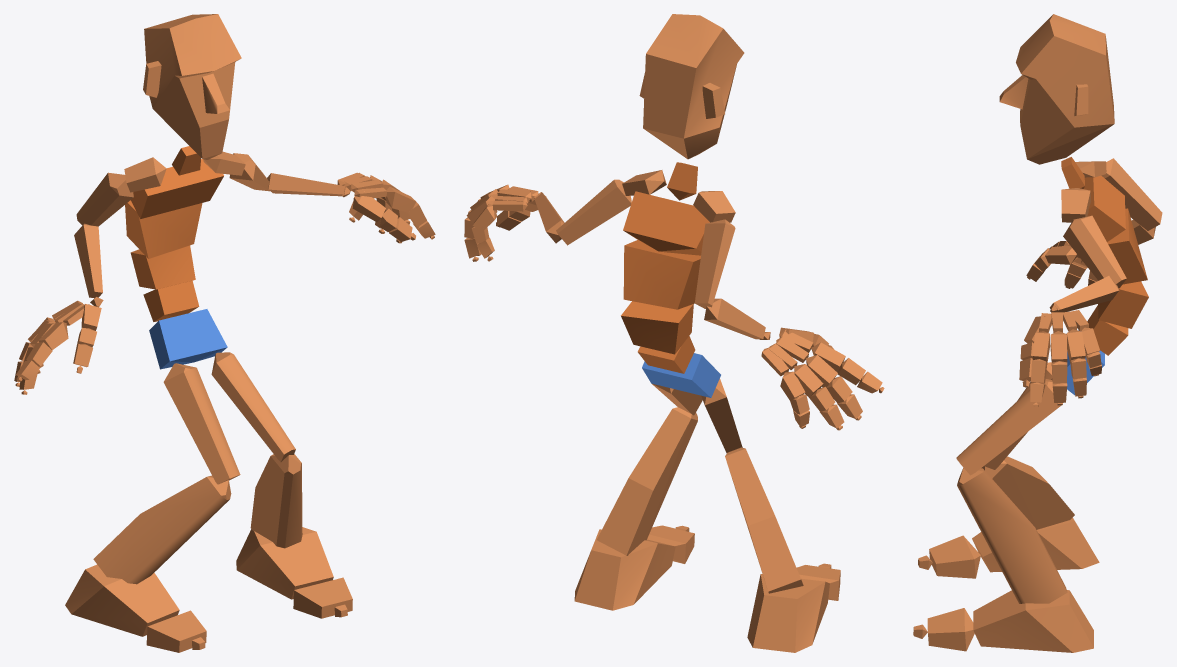
The model's file is prueba281.obj.
The picture shows the model from 3 angles, left to right: view 1: azimuth 30°, elevation 25°; view 2: azimuth 150°, elevation 25°; view 3: azimuth 270°, elevation 25°; orthographic projection. The views are drawn at different scales.
Parts seen in each view (by area): view 1: BOPED_Head, BOPED_R_leg, BOPED_R_foot, BOPED_R_foot01, BOPED_L_leg, BOPED_R_legup, Bone01, BOPED_L_legup, Bone04, Bone05, Bone03, BOPED_R_arm_upper (+9 smaller); view 2: BOPED_Head, BOPED_L_leg, BOPED_R_foot01, BOPED_R_foot, BOPED_R_leg, Bone04, Bone05, Bone03, BOPED_R_arm_upper, BOPED_L_arm_upper, Bone01, BOPED_R_legup (+9 smaller); view 3: BOPED_Head, BOPED_L_leg, BOPED_R_foot01, BOPED_L_legup, BOPED_R_leg, BOPED_R_foot, BOPED_L_arm_upper, Bone05, BOPED_R_arm_upper, BOPED_R_foot_toe01, BOPED_R_foot_toe04, Bone03 (+11 smaller).
Boxes of the visible parts, x1,y1,x2,y2 form: BOPED_Head: (143, 14, 241, 159); BOPED_R_leg: (93, 475, 231, 584); BOPED_R_foot: (65, 564, 179, 636); BOPED_R_foot01: (236, 527, 333, 599); BOPED_L_leg: (250, 454, 302, 548); BOPED_R_legup: (163, 363, 240, 484); Bone01: (149, 309, 227, 369); BOPED_L_legup: (211, 352, 295, 462); Bone04: (125, 200, 202, 258); Bone05: (131, 159, 223, 218); Bone03: (130, 245, 195, 289); BOPED_R_arm_upper: (76, 172, 133, 226); BOPED_Head: (639, 14, 744, 159); BOPED_L_leg: (597, 407, 697, 555); BOPED_R_foot01: (574, 529, 675, 610); BOPED_R_foot: (747, 574, 829, 652); BOPED_R_leg: (725, 447, 803, 593); Bone04: (623, 240, 700, 309); Bone05: (623, 191, 709, 255); Bone03: (621, 301, 693, 354); BOPED_R_arm_upper: (694, 219, 735, 308); BOPED_L_arm_upper: (556, 179, 631, 245); Bone01: (642, 353, 720, 397); BOPED_R_legup: (701, 378, 742, 453); BOPED_Head: (999, 14, 1114, 164); BOPED_L_leg: (957, 468, 1067, 603); BOPED_R_foot01: (973, 590, 1093, 652); BOPED_L_legup: (956, 379, 1062, 475); BOPED_R_leg: (981, 456, 1074, 529); BOPED_R_foot: (972, 517, 1099, 572); BOPED_L_arm_upper: (1063, 215, 1126, 288); Bone05: (1084, 175, 1125, 241); BOPED_R_arm_upper: (1101, 158, 1162, 230); BOPED_R_foot_toe01: (929, 535, 980, 578); BOPED_R_foot_toe04: (927, 608, 974, 651); Bone03: (1098, 281, 1148, 328).
Size of the model in its own units: 130 by 175 by 68.03.
